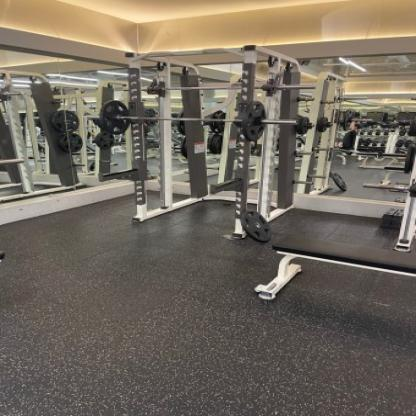smith machine: (116, 45, 297, 243)
